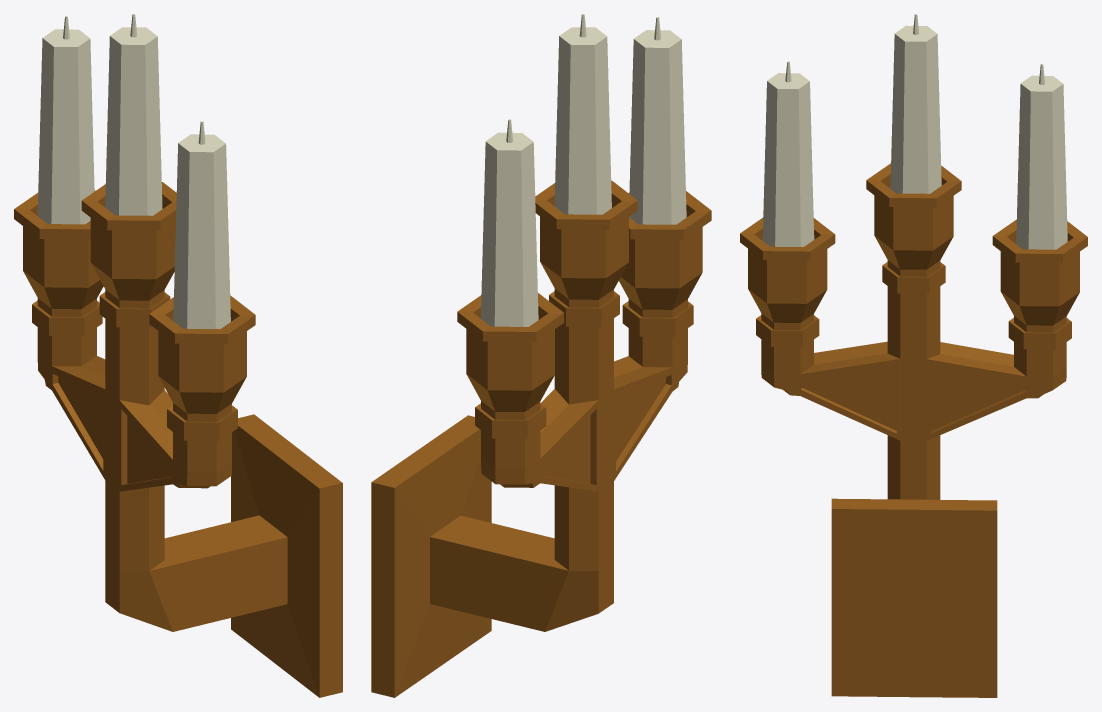
The model's file is CandlestickWall.glb.
3 views of the same model, side by side, from view 1: azimuth 30°, elevation 25°; view 2: azimuth 150°, elevation 25°; view 3: azimuth 270°, elevation 25° (orthographic). The views are drawn at different scales.
Parts seen in each view (by area): view 1: Candlestick_v2.009; view 2: Candlestick_v2.009; view 3: Candlestick_v2.009.
Boxes of the visible parts, left/top/right/bottom form: Candlestick_v2.009: left=14, top=14, right=342, bottom=697; Candlestick_v2.009: left=371, top=14, right=711, bottom=697; Candlestick_v2.009: left=740, top=14, right=1087, bottom=697.
Size of the model in its own units: 0.2695 by 0.8404 by 0.4336.
